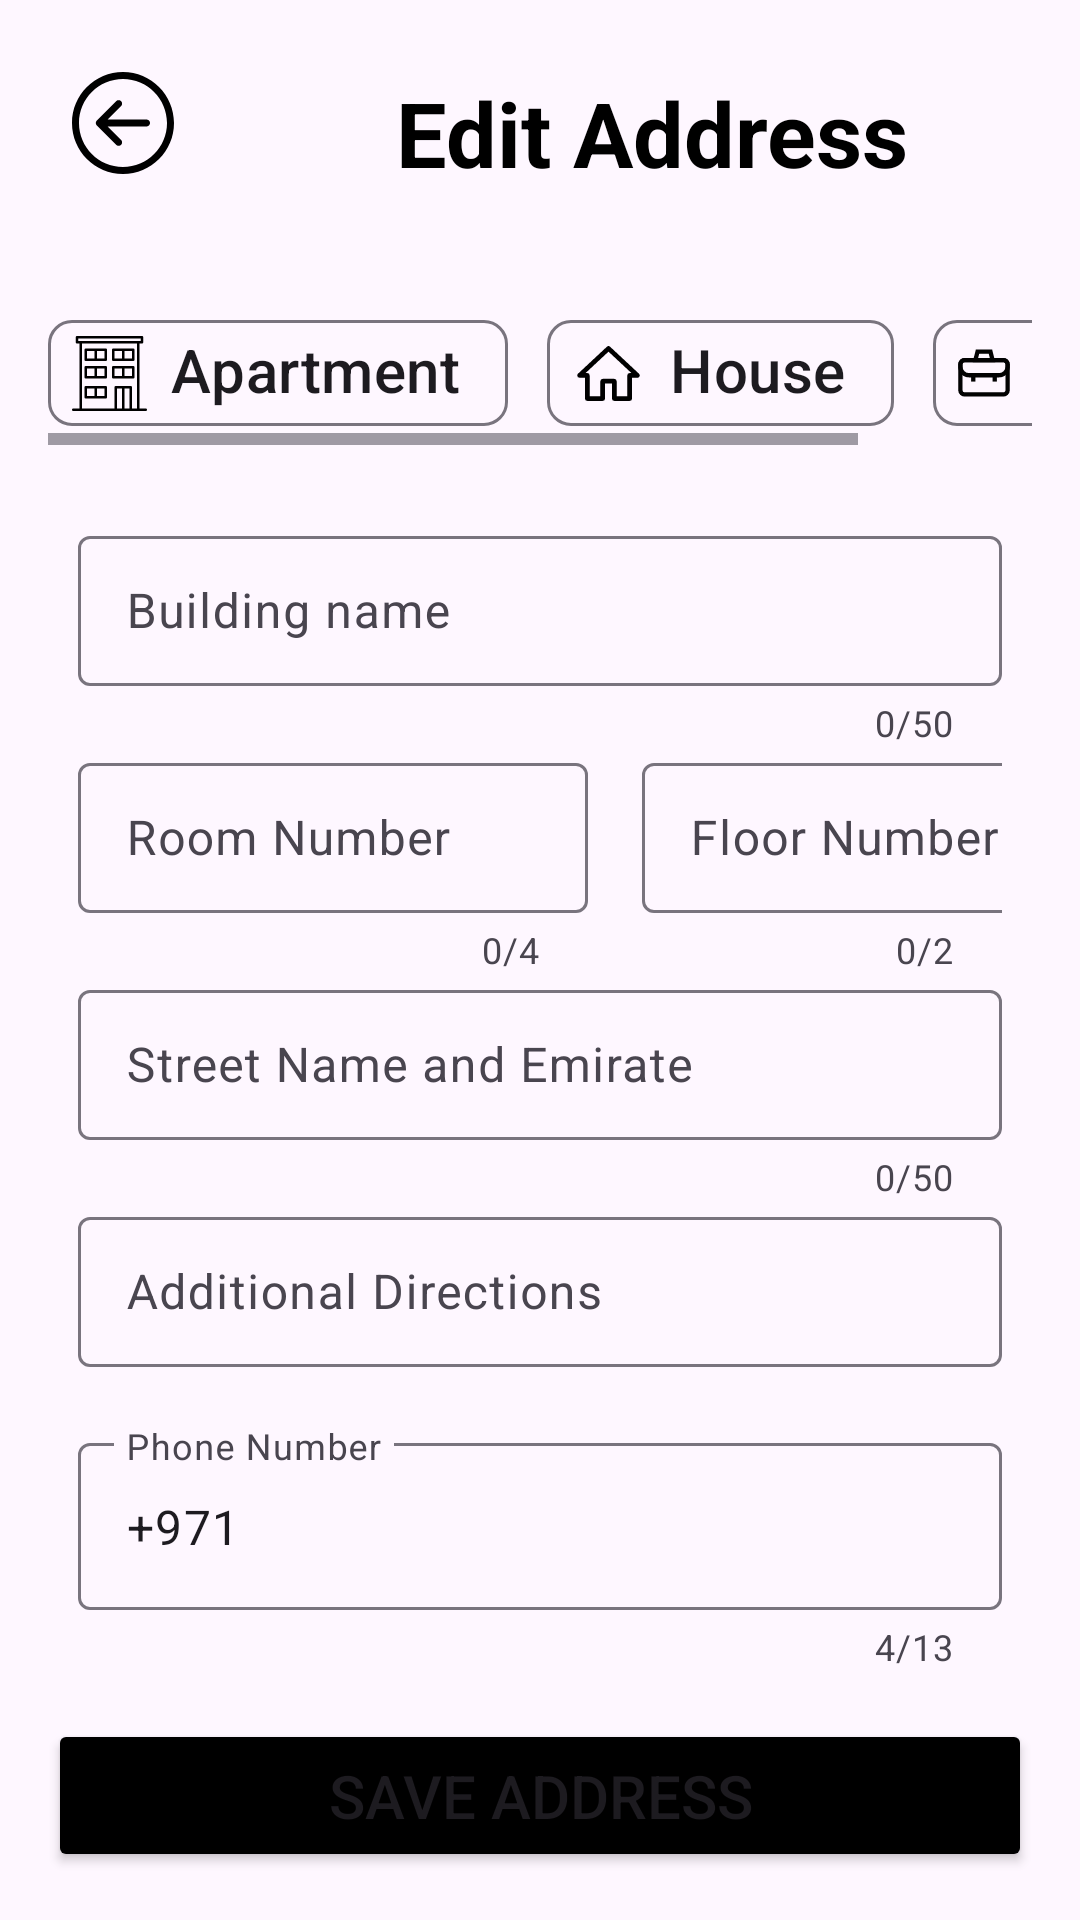

Icon click points for this 1080*1920 phone screenshot, format [x,y]:
Back Button: [123,123]
